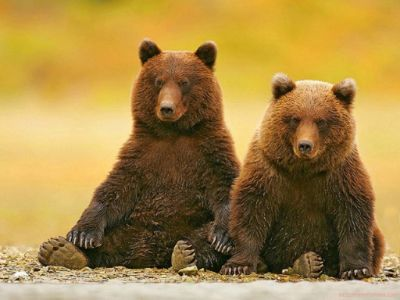bear: (53, 38, 235, 271), (235, 70, 380, 279)
